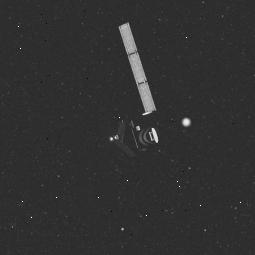earth_observation_sat_1: (104, 18, 166, 157)
